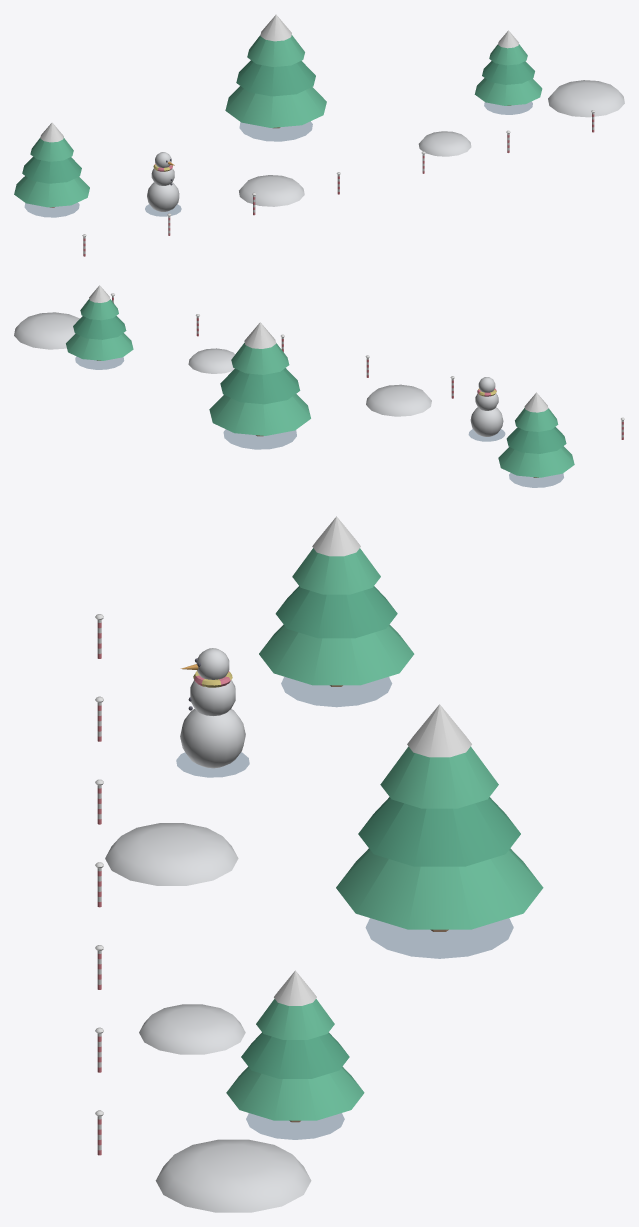
The model's file is snowy-near.glb.
3 views of the same model, one above another, from view 1: azimuth 30°, elevation 25°; view 2: azimuth 150°, elevation 25°; view 3: azimuth 270°, elevation 25° (orthographic). The views are drawn at different scales.
Visible parts, largest first — view 1: snowy-near; view 2: snowy-near; view 3: snowy-near.
Part boxes in pixels (<box>): snowy-near: <box>14,14,624,256</box>; snowy-near: <box>14,285,624,487</box>; snowy-near: <box>95,516,543,1212</box>.
Size of the model in its own units: 64.28 by 12.16 by 21.74.
